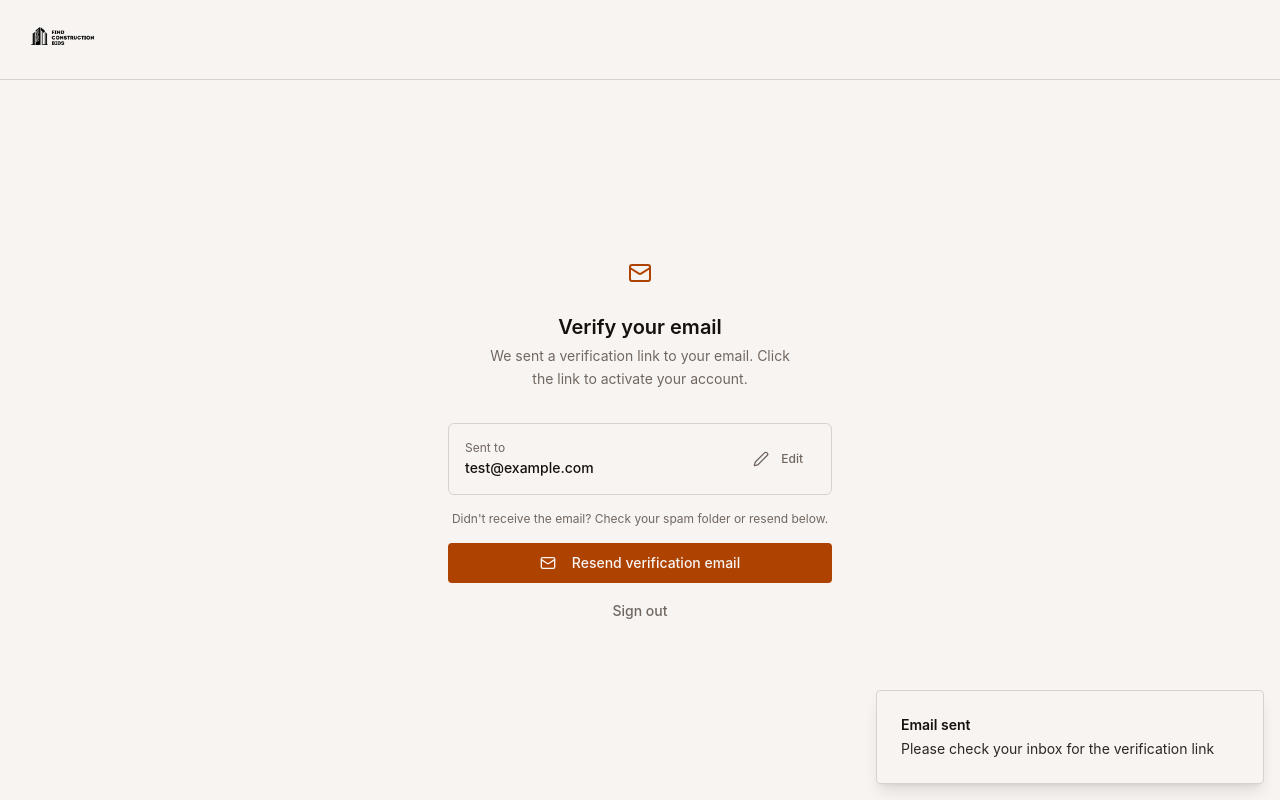
EmailVerificationPendingPage › resend verification › shows a "Request failed" toast when resend API returns an error
Click the button with test id "button-resend-verification": [640, 563] box [448,543,832,583]
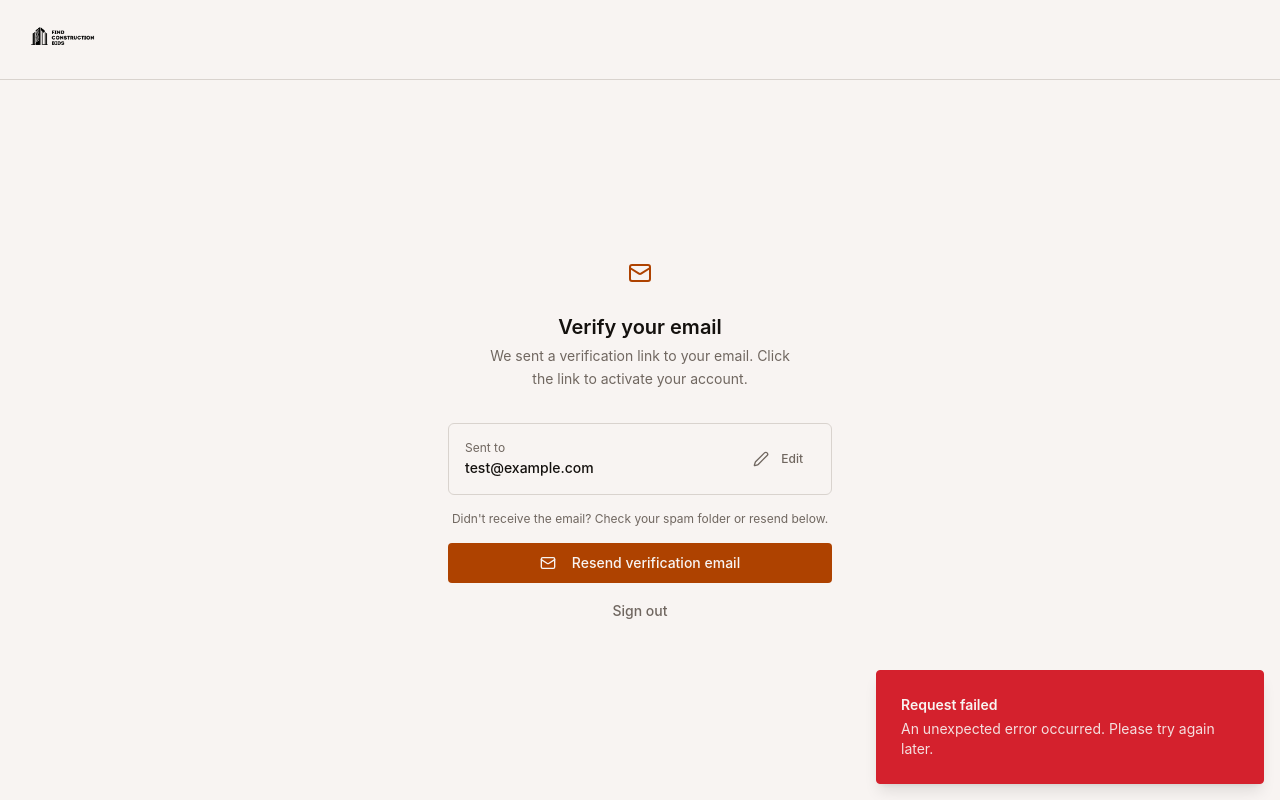
expect the text "Request failed" is shown: met, box [901,696,998,713]
